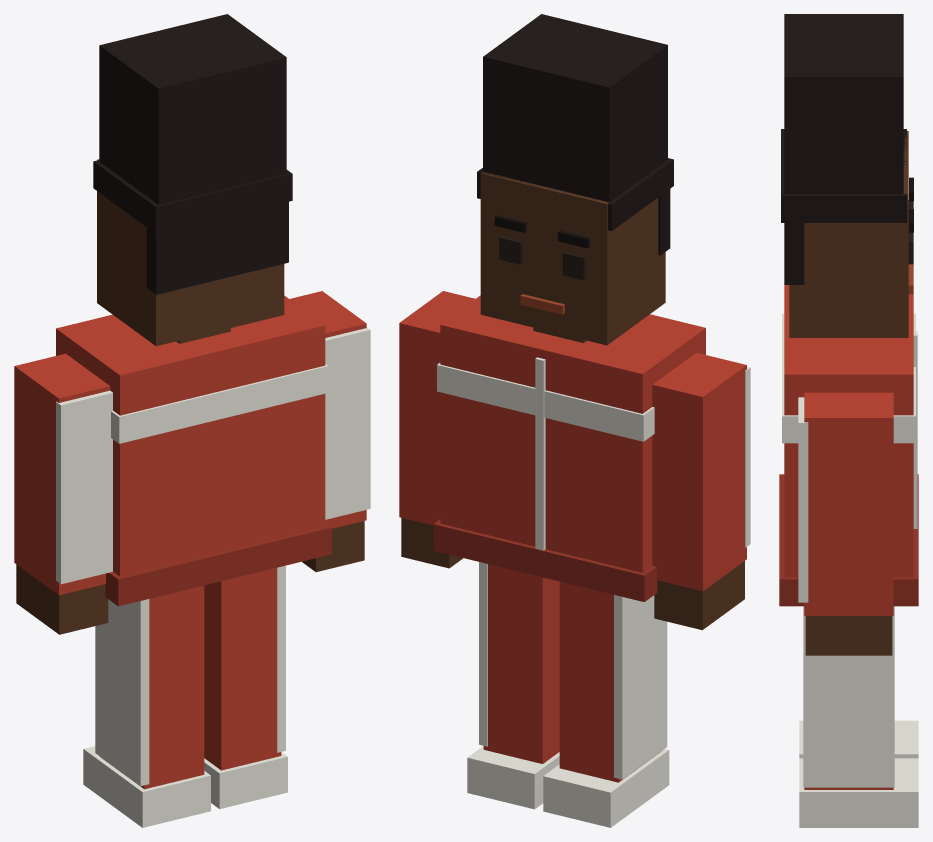
The model's file is brooks_kid.glb.
3 views of the same model, side by side, from view 1: azimuth 30°, elevation 25°; view 2: azimuth 150°, elevation 25°; view 3: azimuth 270°, elevation 25° (orthographic).
Parts seen in each view (by area): view 1: Box13, Box24, Box7, Box18, Box4, Box1, Box5, Box2, Box26, Box11, Box16, Box14 (+7 smaller); view 2: Box13, Box24, Box18, Box4, Box7, Box1, Box10, Box2, Box16, Box14, Box3, Box9 (+7 smaller); view 3: Box24, Box10, Box13, Box18, Box8, Box9, Box25, Box12, Box16, Box11, Box14, Box26 (+2 smaller).
Part boxes in pixels (x1,y1,x2,y2): Box13: (56,295,325,576); Box24: (99,14,286,204); Box7: (204,568,281,770); Box18: (97,159,284,346); Box4: (14,353,110,595); Box1: (100,585,204,789); Box5: (56,390,112,584); Box2: (95,599,149,786); Box26: (146,201,288,294); Box11: (325,327,370,519); Box16: (105,523,331,606); Box14: (111,364,328,443); Box13: (440,295,705,572); Box24: (483,14,667,202); Box18: (480,172,665,345); Box4: (652,352,746,591); Box7: (483,564,559,763); Box1: (559,581,662,782); Box10: (399,291,475,525); Box2: (614,595,667,779); Box16: (433,519,657,601); Box14: (437,363,654,441); Box3: (543,749,669,827); Box9: (467,746,559,809); Box24: (784,14,903,193); Box10: (804,392,893,615); Box13: (784,285,913,577); Box18: (789,131,908,337); Box8: (803,606,894,787); Box9: (799,758,918,827); Box25: (781,129,906,222); Box12: (805,616,892,655); Box16: (779,474,918,606); Box11: (798,397,808,602); Box14: (782,313,915,443); Box26: (784,223,804,284).
Size of the model in its own units: 0.7602 by 1.74 by 0.294.
